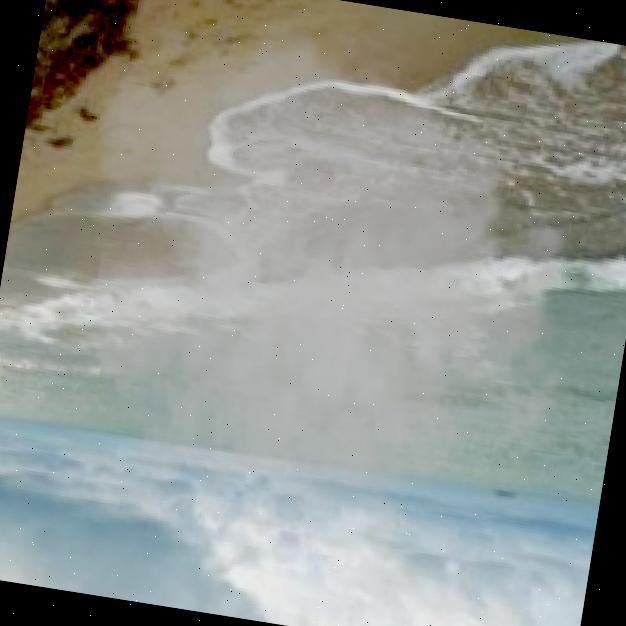smoke: (24, 0, 626, 590)
